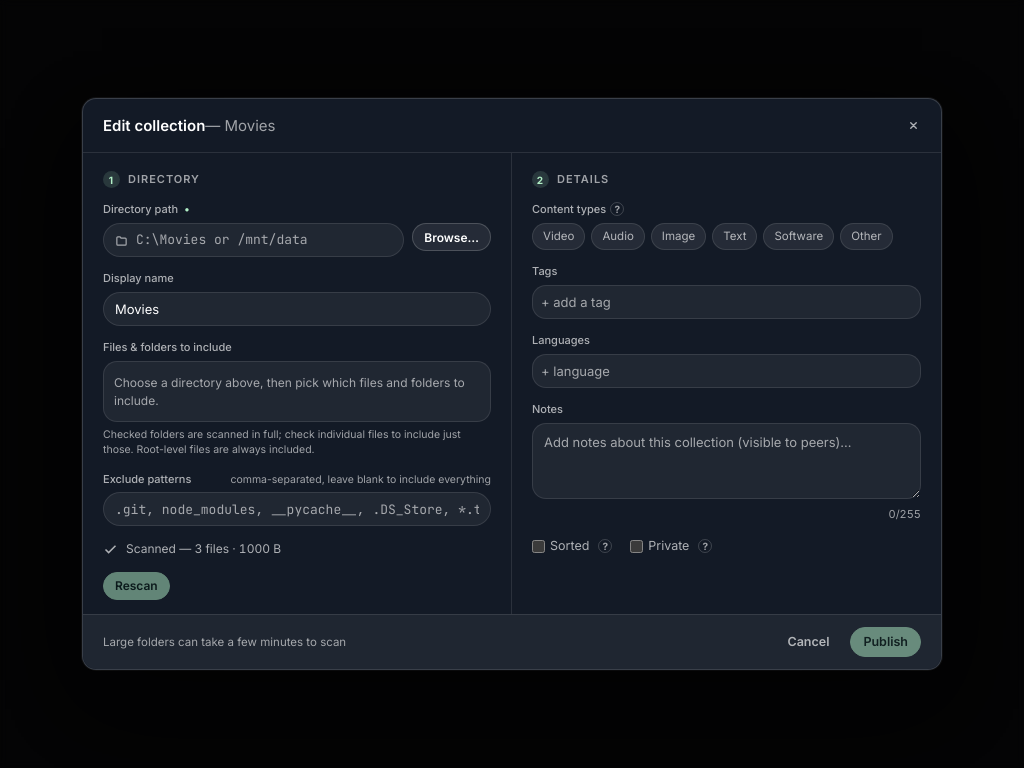
it: AddCollectionModal (QURATOR-206 — one two-column screen) › publish_disabled_until_a_content_type_is_picked_on_reopen
expect the button "Publish" is disabled: met, box [850, 627, 921, 657]
Click the button "Video" at x=559, y=237, box [532, 223, 585, 250]
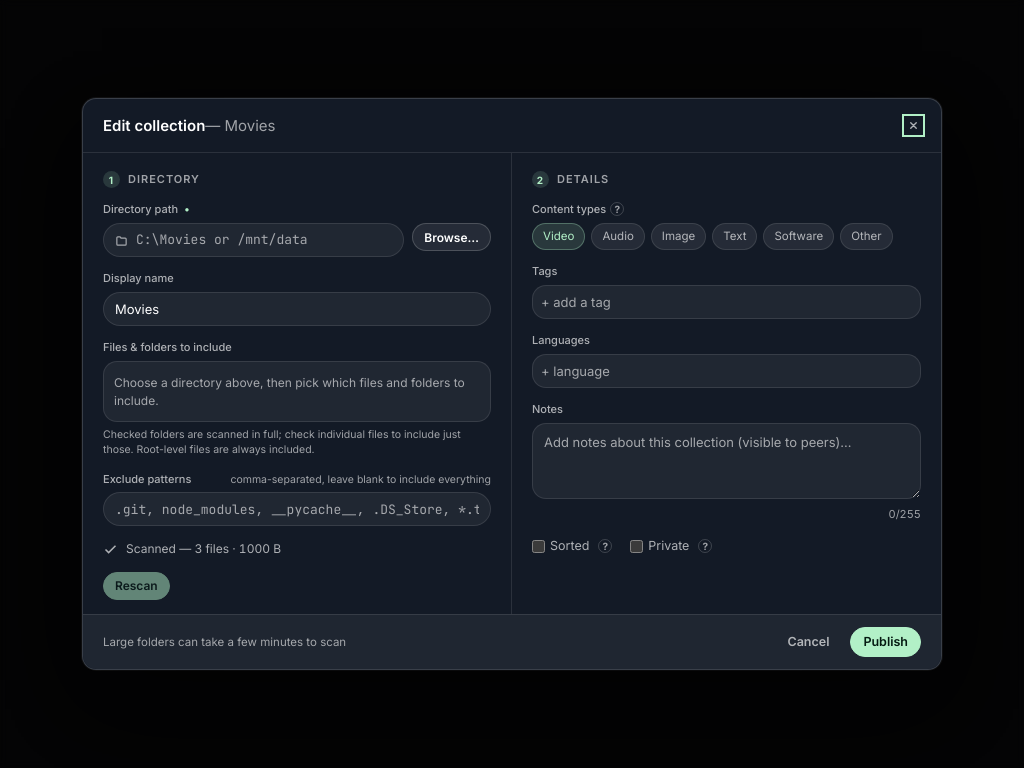
expect the button "Publish" is enabled: met, box [850, 627, 921, 657]
